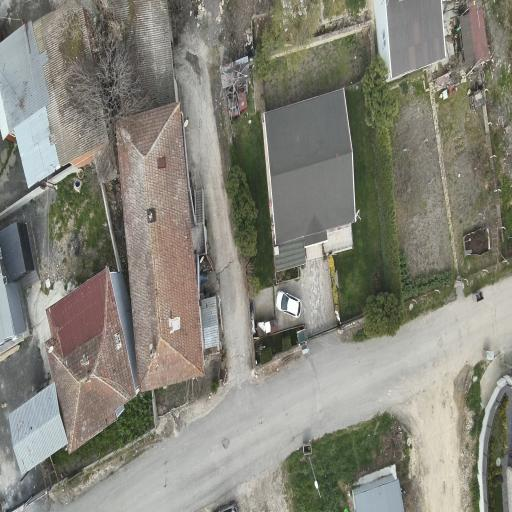car: (276, 291, 301, 318), (216, 502, 237, 511)
